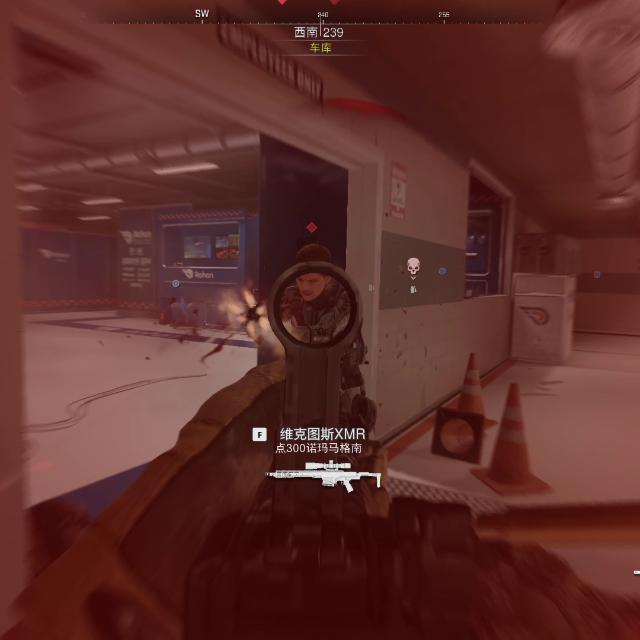MW2_body: (278, 221, 353, 338)
